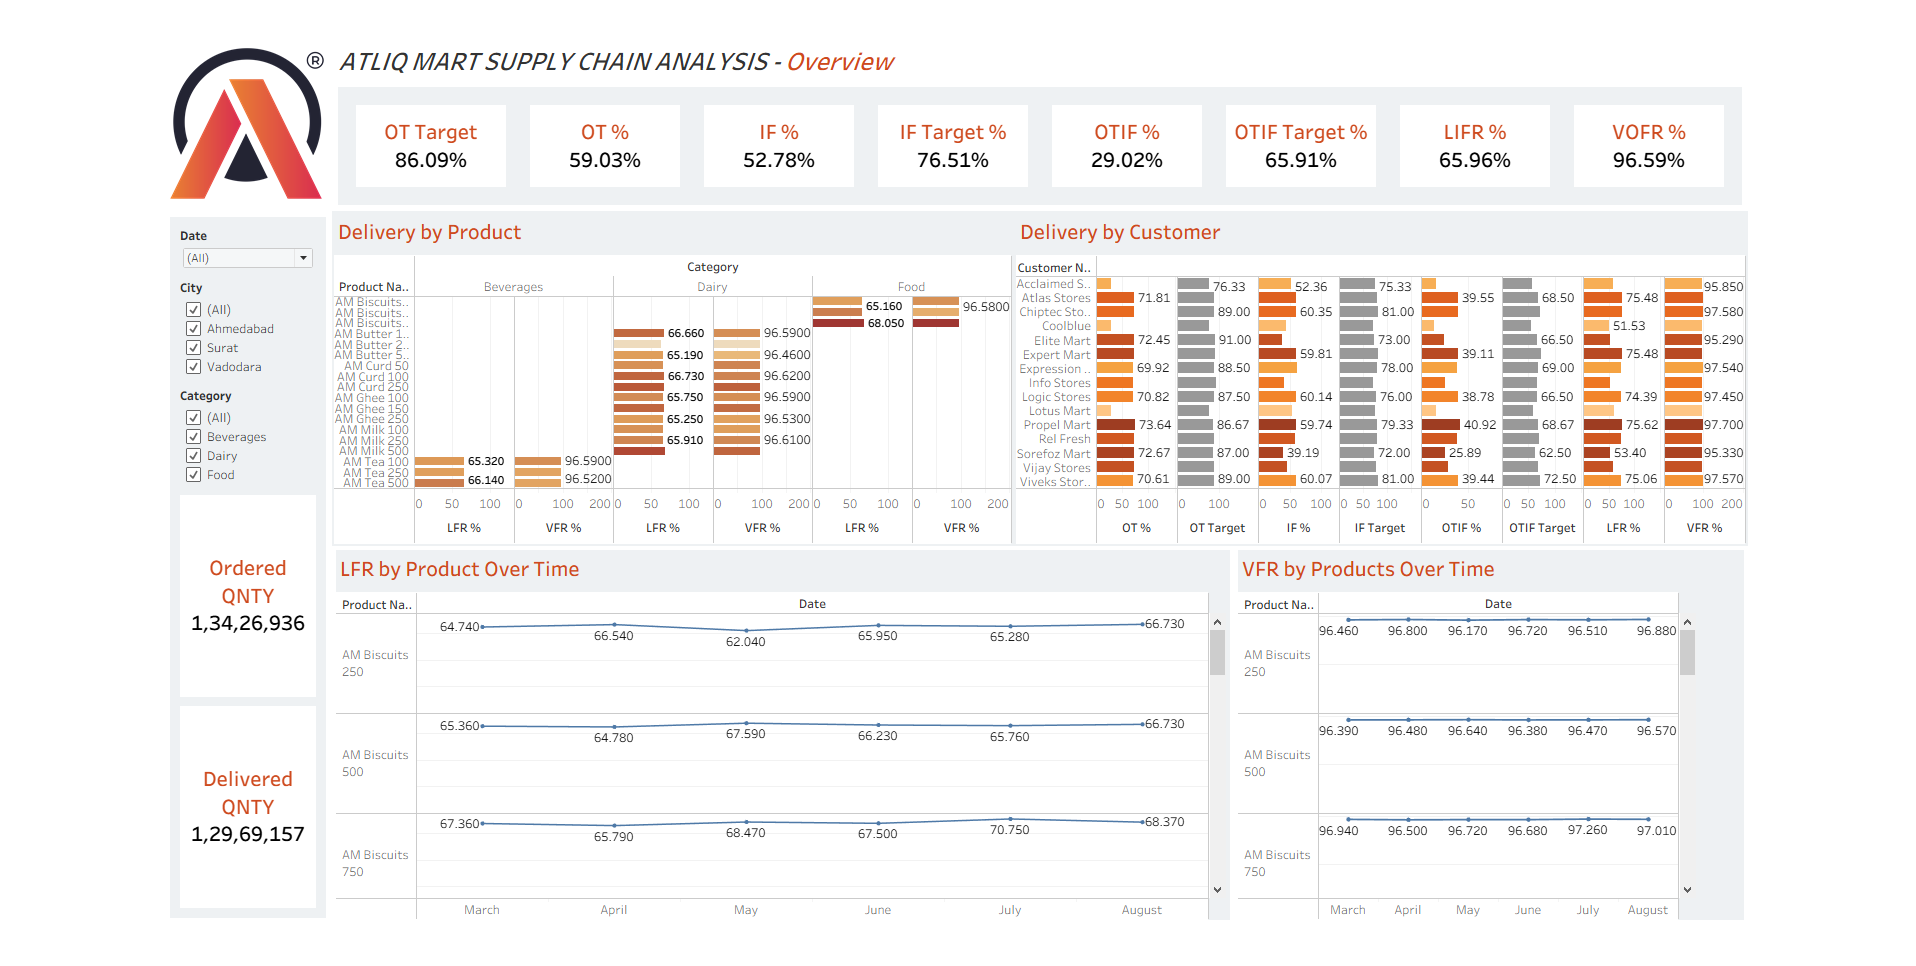

This screenshot's page, from the dashboard's own definition file:
{"tool":"tableau","page":{"name":"Overview","canvas":[1600,900],"ordinal":2},"visuals":[{"type":"image","param":"Image/Atliq_logo_for_dashboard.png","box":[8,8,168,171]},{"type":"title","box":[176,8,1416,41]},{"type":"worksheet","title":"OT Target","mark":"Automatic","box":[188,61,174,106]},{"type":"worksheet","title":"OT %","mark":"Automatic","box":[362,61,174,106]},{"type":"worksheet","title":"IF %","mark":"Automatic","box":[536,61,174,106]},{"type":"worksheet","title":"IF Target","mark":"Automatic","box":[710,61,174,106]},{"type":"worksheet","title":"OTIF %","mark":"Automatic","box":[884,61,174,106]},{"type":"worksheet","title":"OTIF Target","mark":"Automatic","box":[1058,61,174,106]},{"type":"worksheet","title":"LFR %","mark":"Automatic","box":[1232,61,174,106]},{"type":"worksheet","title":"VFR %","mark":"Automatic","box":[1406,61,174,106]},{"type":"worksheet","title":"Delivery by Prodcuts","mark":"Automatic","rows":["product_name"],"cols":["category","Calculation_1114640975979413511","Calculation_1114640975982927880"],"box":[176,179,682,335]},{"type":"worksheet","title":"Delivery by Customer","mark":"Automatic","rows":["customer_name"],"cols":["Calculation_1114640975993081872","Calculation_1114640975975804931","Calculation_1114640975993704465","Calculation_1114640975976292356","Calculation_1114640975993991186","Calculation_1114640975976456197","Calculation_1114640975979413511","Calculation_1114640975982927880"],"box":[858,179,734,335]},{"type":"filter","title":"Delivery by Customer","param":"[federated.1tx64m90us22kp15gms3t061nwbw].[mn:Date:ok]","box":[20,191,144,52]},{"type":"filter","title":"Delivery by Customer","param":"[federated.1tx64m90us22kp15gms3t061nwbw].[none:city:nk]","box":[20,243,144,108]},{"type":"filter","title":"Delivery by Prodcuts","param":"[federated.1tx64m90us22kp15gms3t061nwbw].[none:category:nk]","box":[20,351,144,108]},{"type":"worksheet","title":"Ordered Qnty","mark":"Automatic","box":[20,459,144,210.5]},{"type":"worksheet","title":"LFR by Product","mark":"Automatic","rows":["product_name","Calculation_1114640975979413511"],"cols":["Date"],"box":[176,514,902,378]},{"type":"worksheet","title":"VFR by Product","mark":"Automatic","rows":["product_name","Calculation_1114640975982927880"],"cols":["Date"],"box":[1078,514,514,378]},{"type":"worksheet","title":"DELVRD QNTY","mark":"Automatic","box":[20,669.5,144,210.5]}]}

Visuals, with their boxes on the page's 1600x900 design canvas (x1, y1, x2, y2). These are canvas units, not pixel positions in the 1916x966 screenshot, which may show the page scaled, cropped or inside an application window:
image: [8,8,176,179]
title: [176,8,1592,49]
"OT Target" worksheet: [188,61,362,167]
"OT %" worksheet: [362,61,536,167]
"IF %" worksheet: [536,61,710,167]
"IF Target" worksheet: [710,61,884,167]
"OTIF %" worksheet: [884,61,1058,167]
"OTIF Target" worksheet: [1058,61,1232,167]
"LFR %" worksheet: [1232,61,1406,167]
"VFR %" worksheet: [1406,61,1580,167]
"Delivery by Prodcuts" worksheet: [176,179,858,514]
"Delivery by Customer" worksheet: [858,179,1592,514]
"Delivery by Customer" filter: [20,191,164,243]
"Delivery by Customer" filter: [20,243,164,351]
"Delivery by Prodcuts" filter: [20,351,164,459]
"Ordered Qnty" worksheet: [20,459,164,670]
"LFR by Product" worksheet: [176,514,1078,892]
"VFR by Product" worksheet: [1078,514,1592,892]
"DELVRD QNTY" worksheet: [20,670,164,880]
